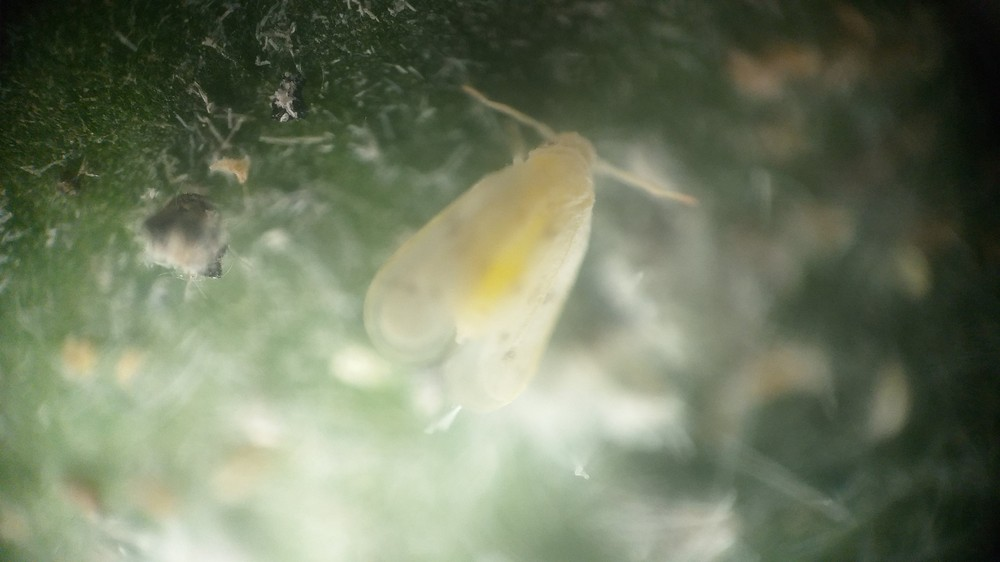Mosca Blanca: (341, 88, 732, 442)
